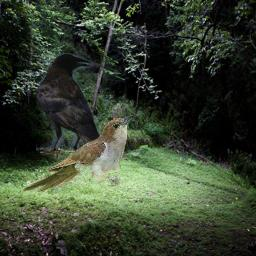Crow: (36, 53, 112, 160)
Cuckoo: (21, 114, 137, 192)
